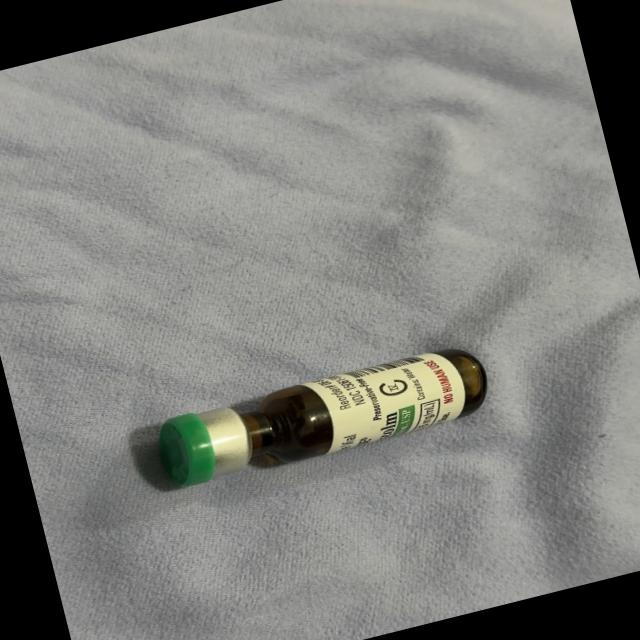midazolm: (156, 342, 489, 492)
